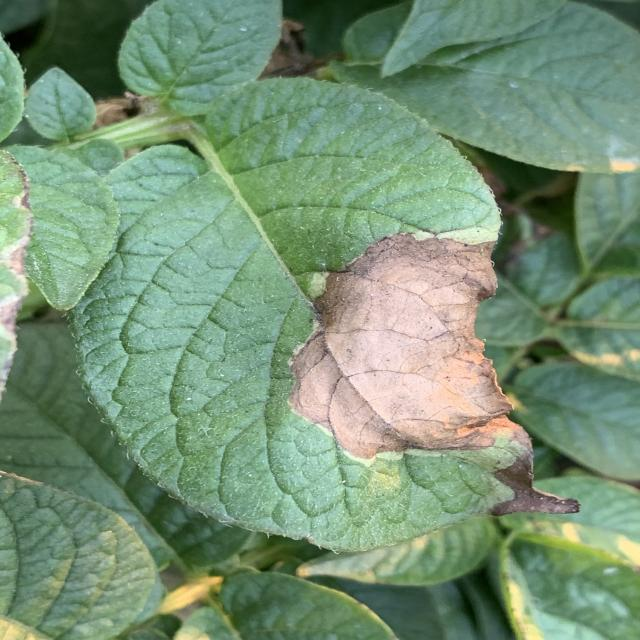lateblight: (290, 234, 578, 515)
